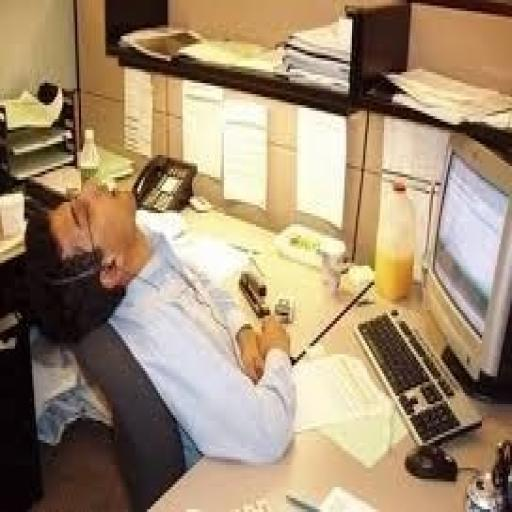sleeping: (30, 172, 299, 504)
